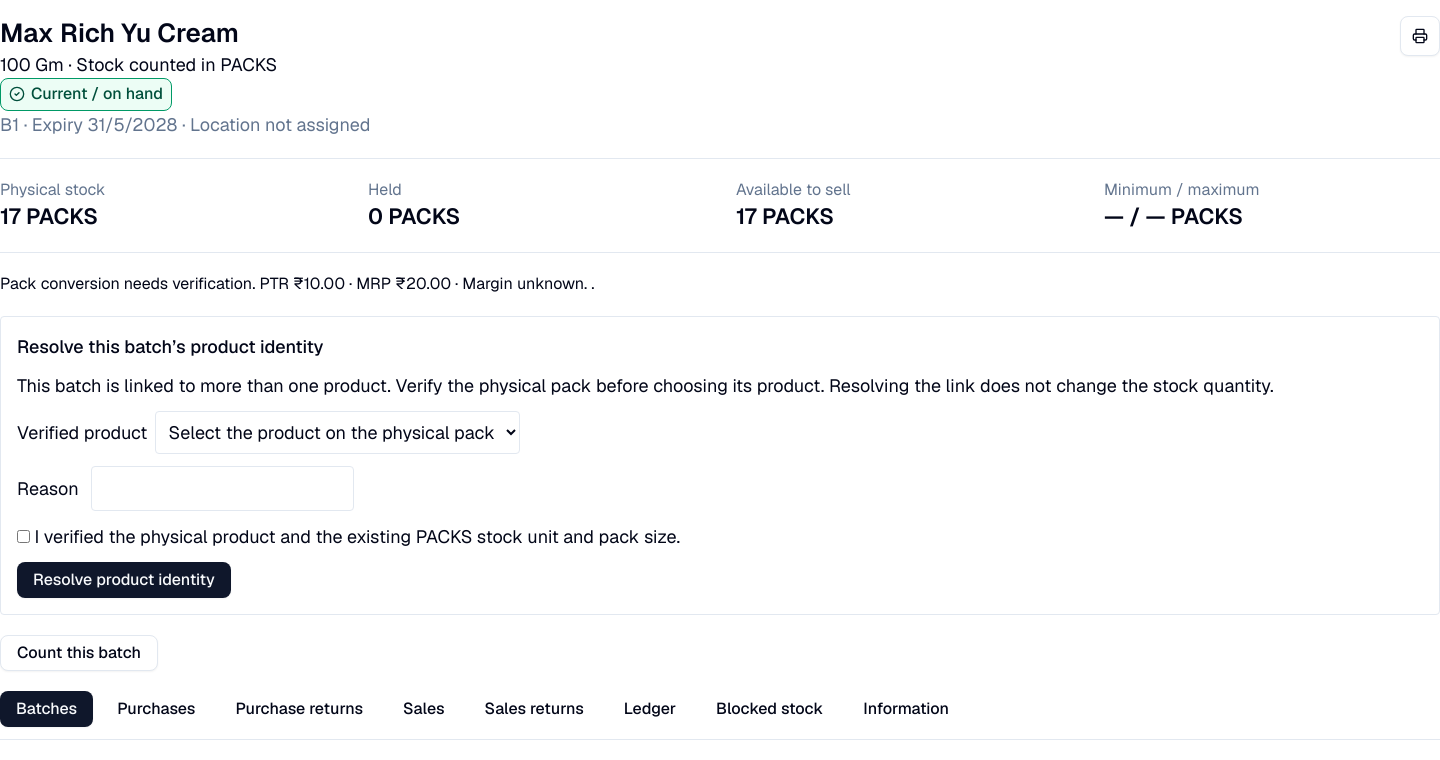
shows an unverified ledger and submits confirmed identity recovery with its revision
Expected: the text "Resolve this batch’s product identity" is shown, left=17, top=335, right=324, bottom=358
Select "Verified cream" in the dropdown labelled "Verified product" at (338, 432), box left=155, top=411, right=520, bottom=454
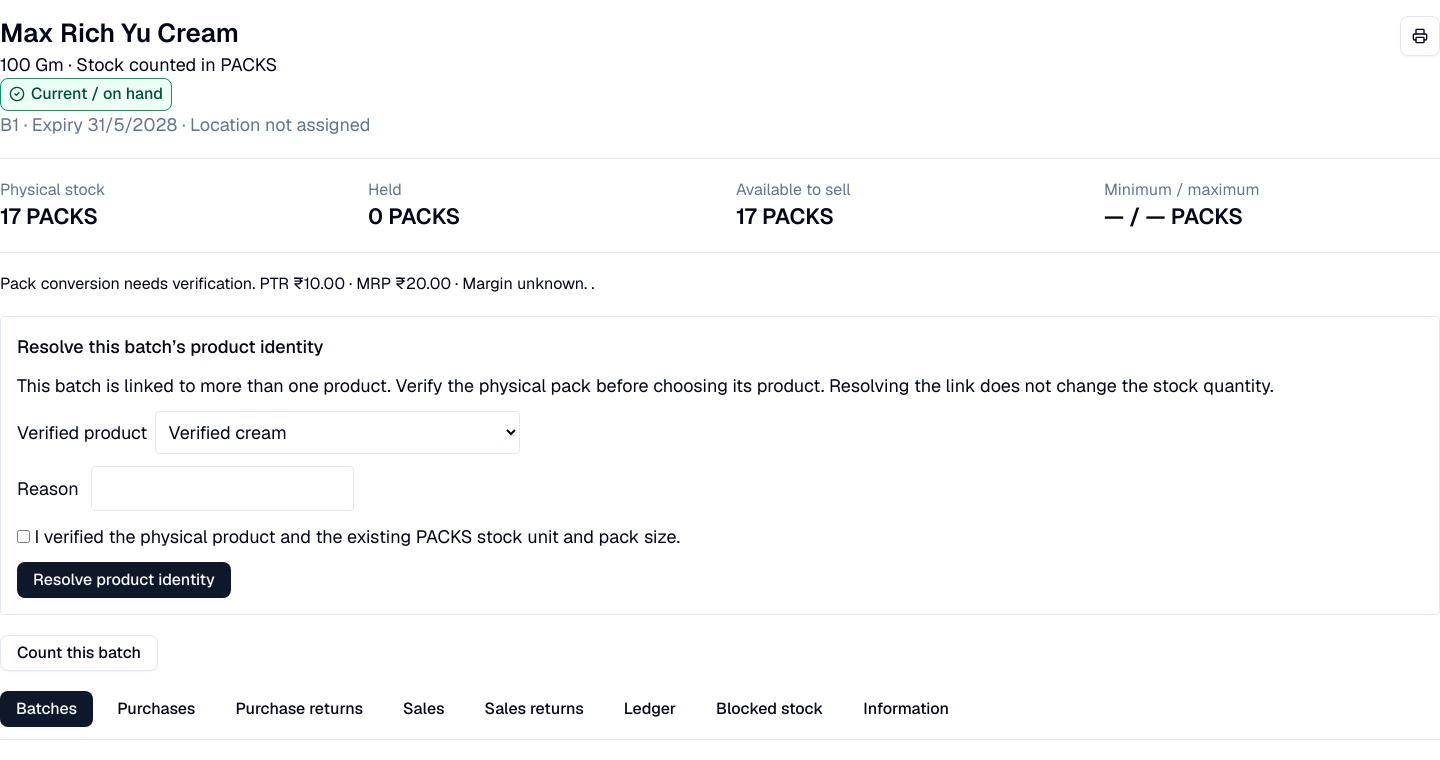
Type "Checked the physical pack" into the field labelled "Reason" at (223, 488), box left=91, top=466, right=354, bottom=511
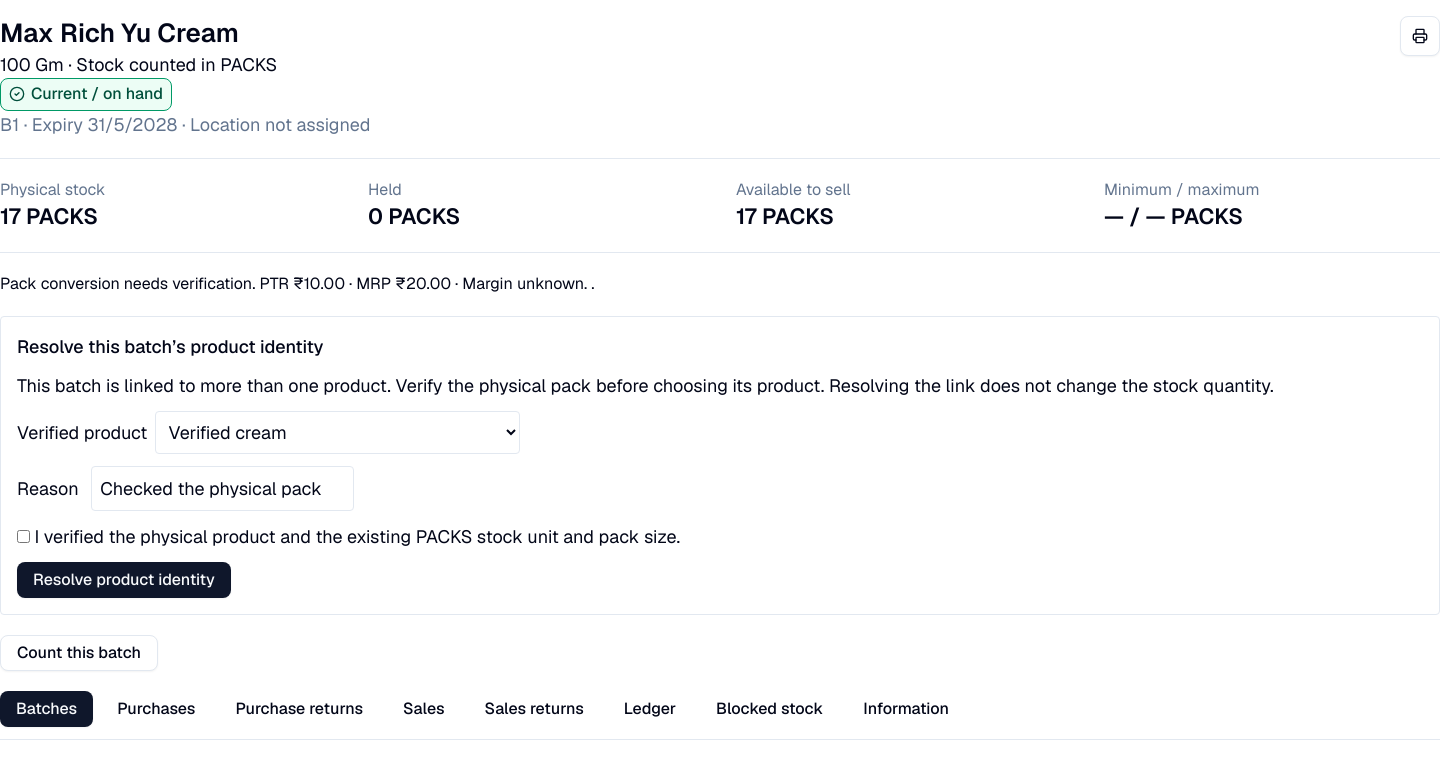
Click the checkbox labelled "I verified the physical product" at (24, 536), box left=17, top=530, right=30, bottom=543
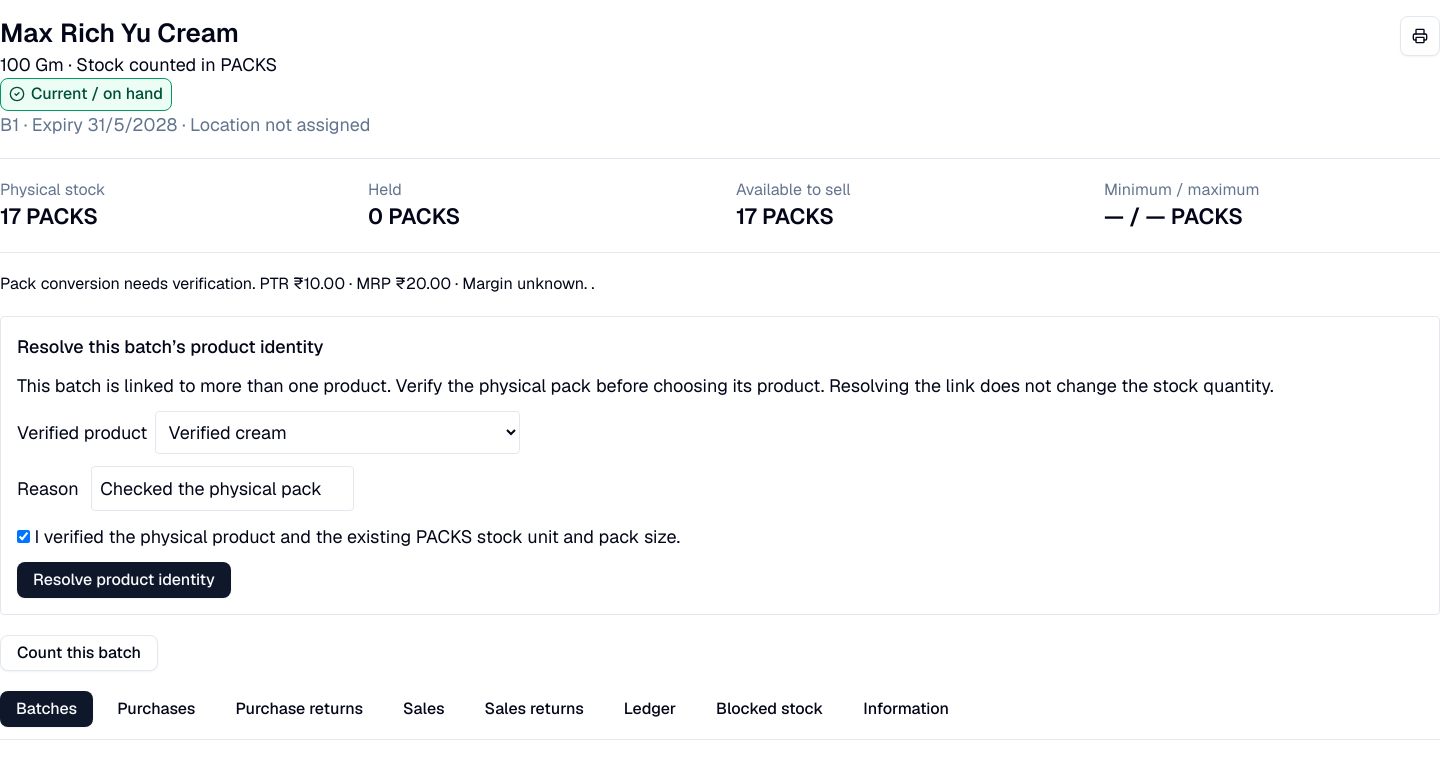
Click the button "Resolve product identity" at (124, 580), box left=17, top=562, right=231, bottom=598
(page scrolled)
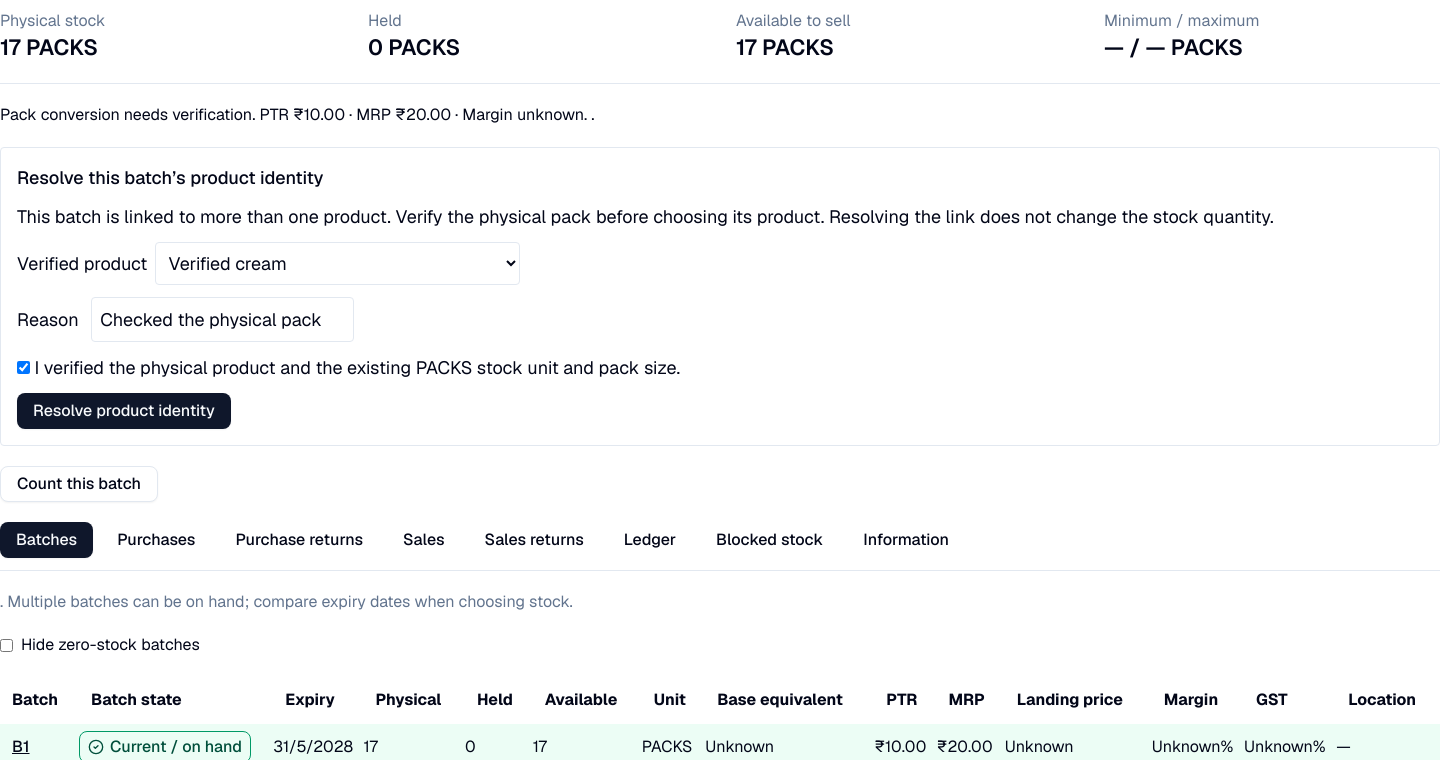
Click the button "Ledger" at (650, 540), box left=608, top=522, right=692, bottom=558
(page scrolled)
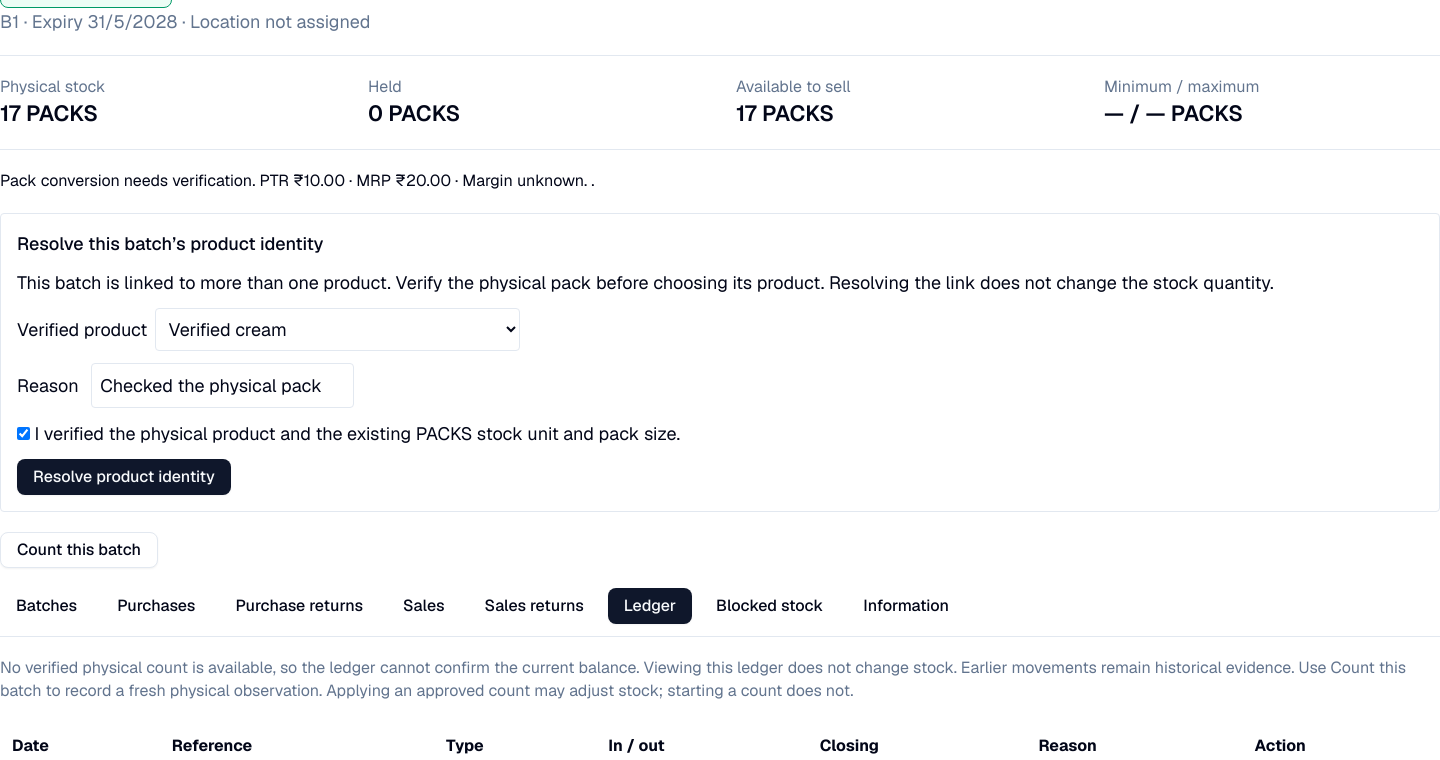
Result: the text "No verified physical count" is shown at left=0, top=657, right=1294, bottom=678
